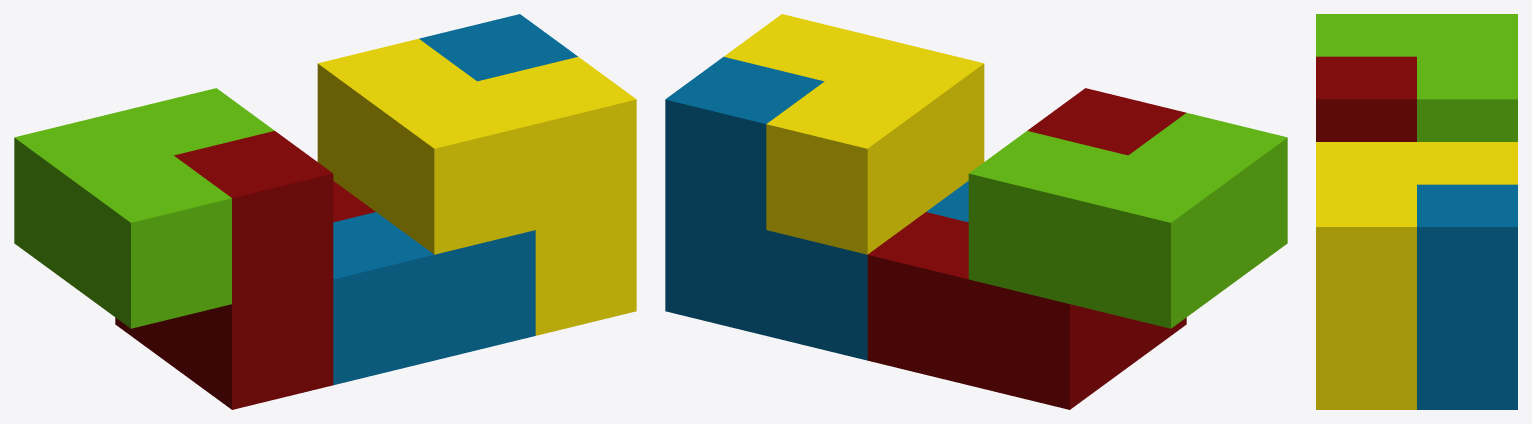
3 views of the same model, side by side, from view 1: azimuth 30°, elevation 25°; view 2: azimuth 150°, elevation 25°; view 3: azimuth 270°, elevation 25° (orthographic). The views are drawn at different scales.
Visible parts, largest first — view 1: mergedBlocks(Clone); view 2: mergedBlocks(Clone); view 3: mergedBlocks(Clone).
Boxes of the visible parts, left/top/right/bottom form: mergedBlocks(Clone): left=14, top=14, right=636, bottom=409; mergedBlocks(Clone): left=665, top=14, right=1287, bottom=409; mergedBlocks(Clone): left=1316, top=14, right=1517, bottom=409.
Bounding box in the file's own units: 5 × 2 × 2.
4 materials, 4 textured.
